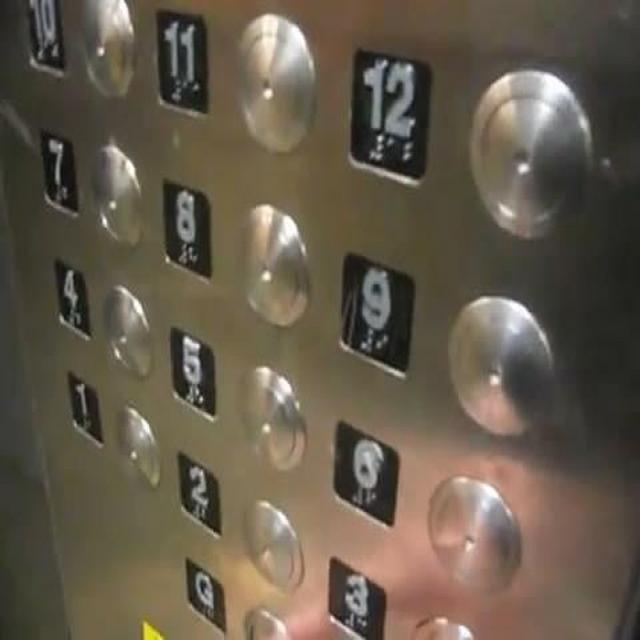1: (60, 363, 107, 453)
11: (149, 3, 215, 121)
12: (341, 38, 436, 190)
2: (172, 444, 226, 540)
3: (321, 546, 391, 638)
4: (46, 248, 93, 348)
5: (163, 318, 222, 422)
7: (31, 120, 84, 221)
8: (156, 169, 218, 288)
9: (332, 245, 419, 380)
G: (178, 551, 232, 637)
blur: (326, 410, 404, 534)
empty: (457, 57, 600, 248), (437, 286, 560, 442), (227, 6, 320, 162), (420, 465, 526, 600), (227, 195, 315, 333), (230, 355, 313, 480), (235, 491, 308, 598), (86, 137, 145, 252), (96, 275, 156, 384), (78, 0, 139, 97), (110, 394, 165, 498)
